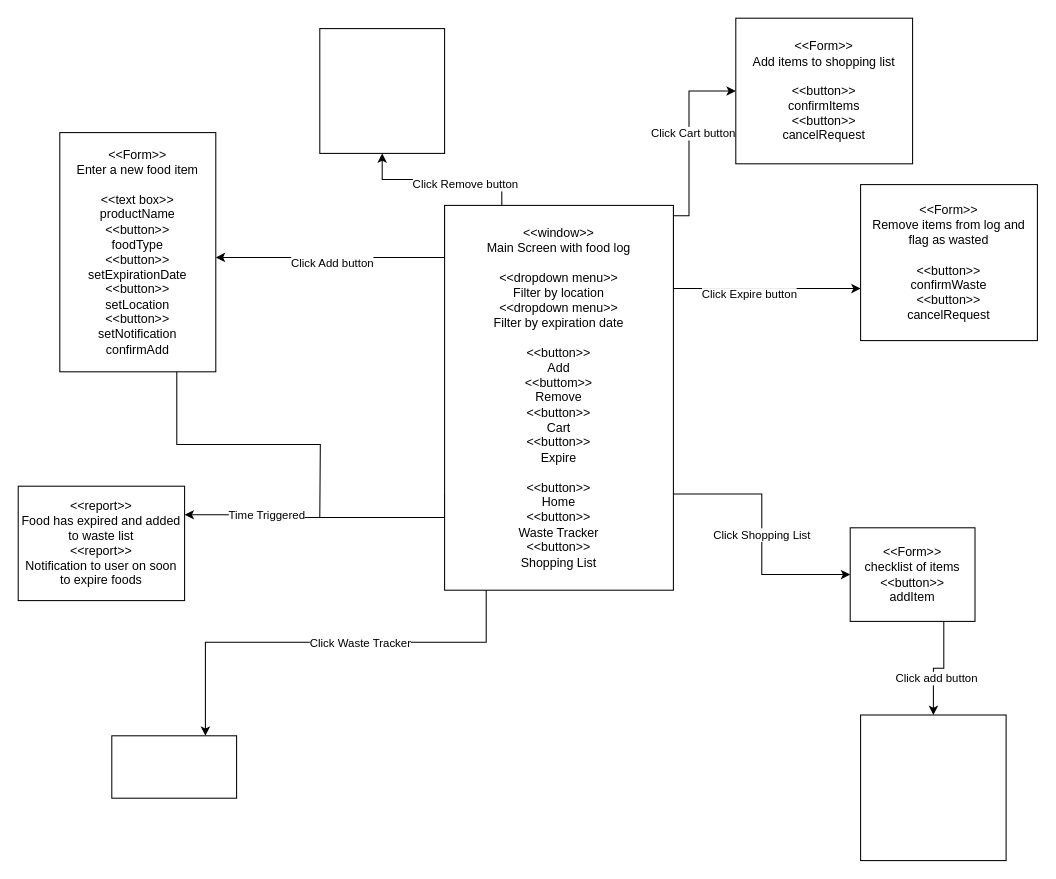
This 1056x879 diagram has some shape labels left out. The box of each missing label's shape, as (x1, y1, x2, y2) in pixels:
<<Form>> Enter product <<button>> addProduct <<button>> cancelRequest: (860, 714, 1006, 861)
<<Form>> Remove existing food <<button>> confirmRemove <<button>> cancelRequest: (319, 28, 445, 153)
<<window>> wasted food data: (111, 735, 237, 798)
